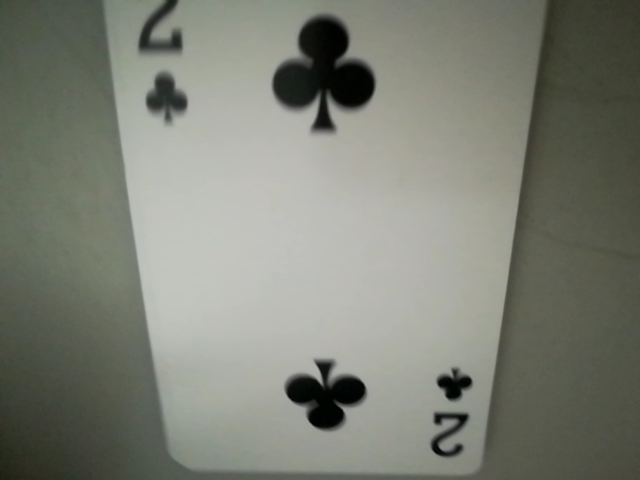mh 2: (423, 364, 482, 464)
